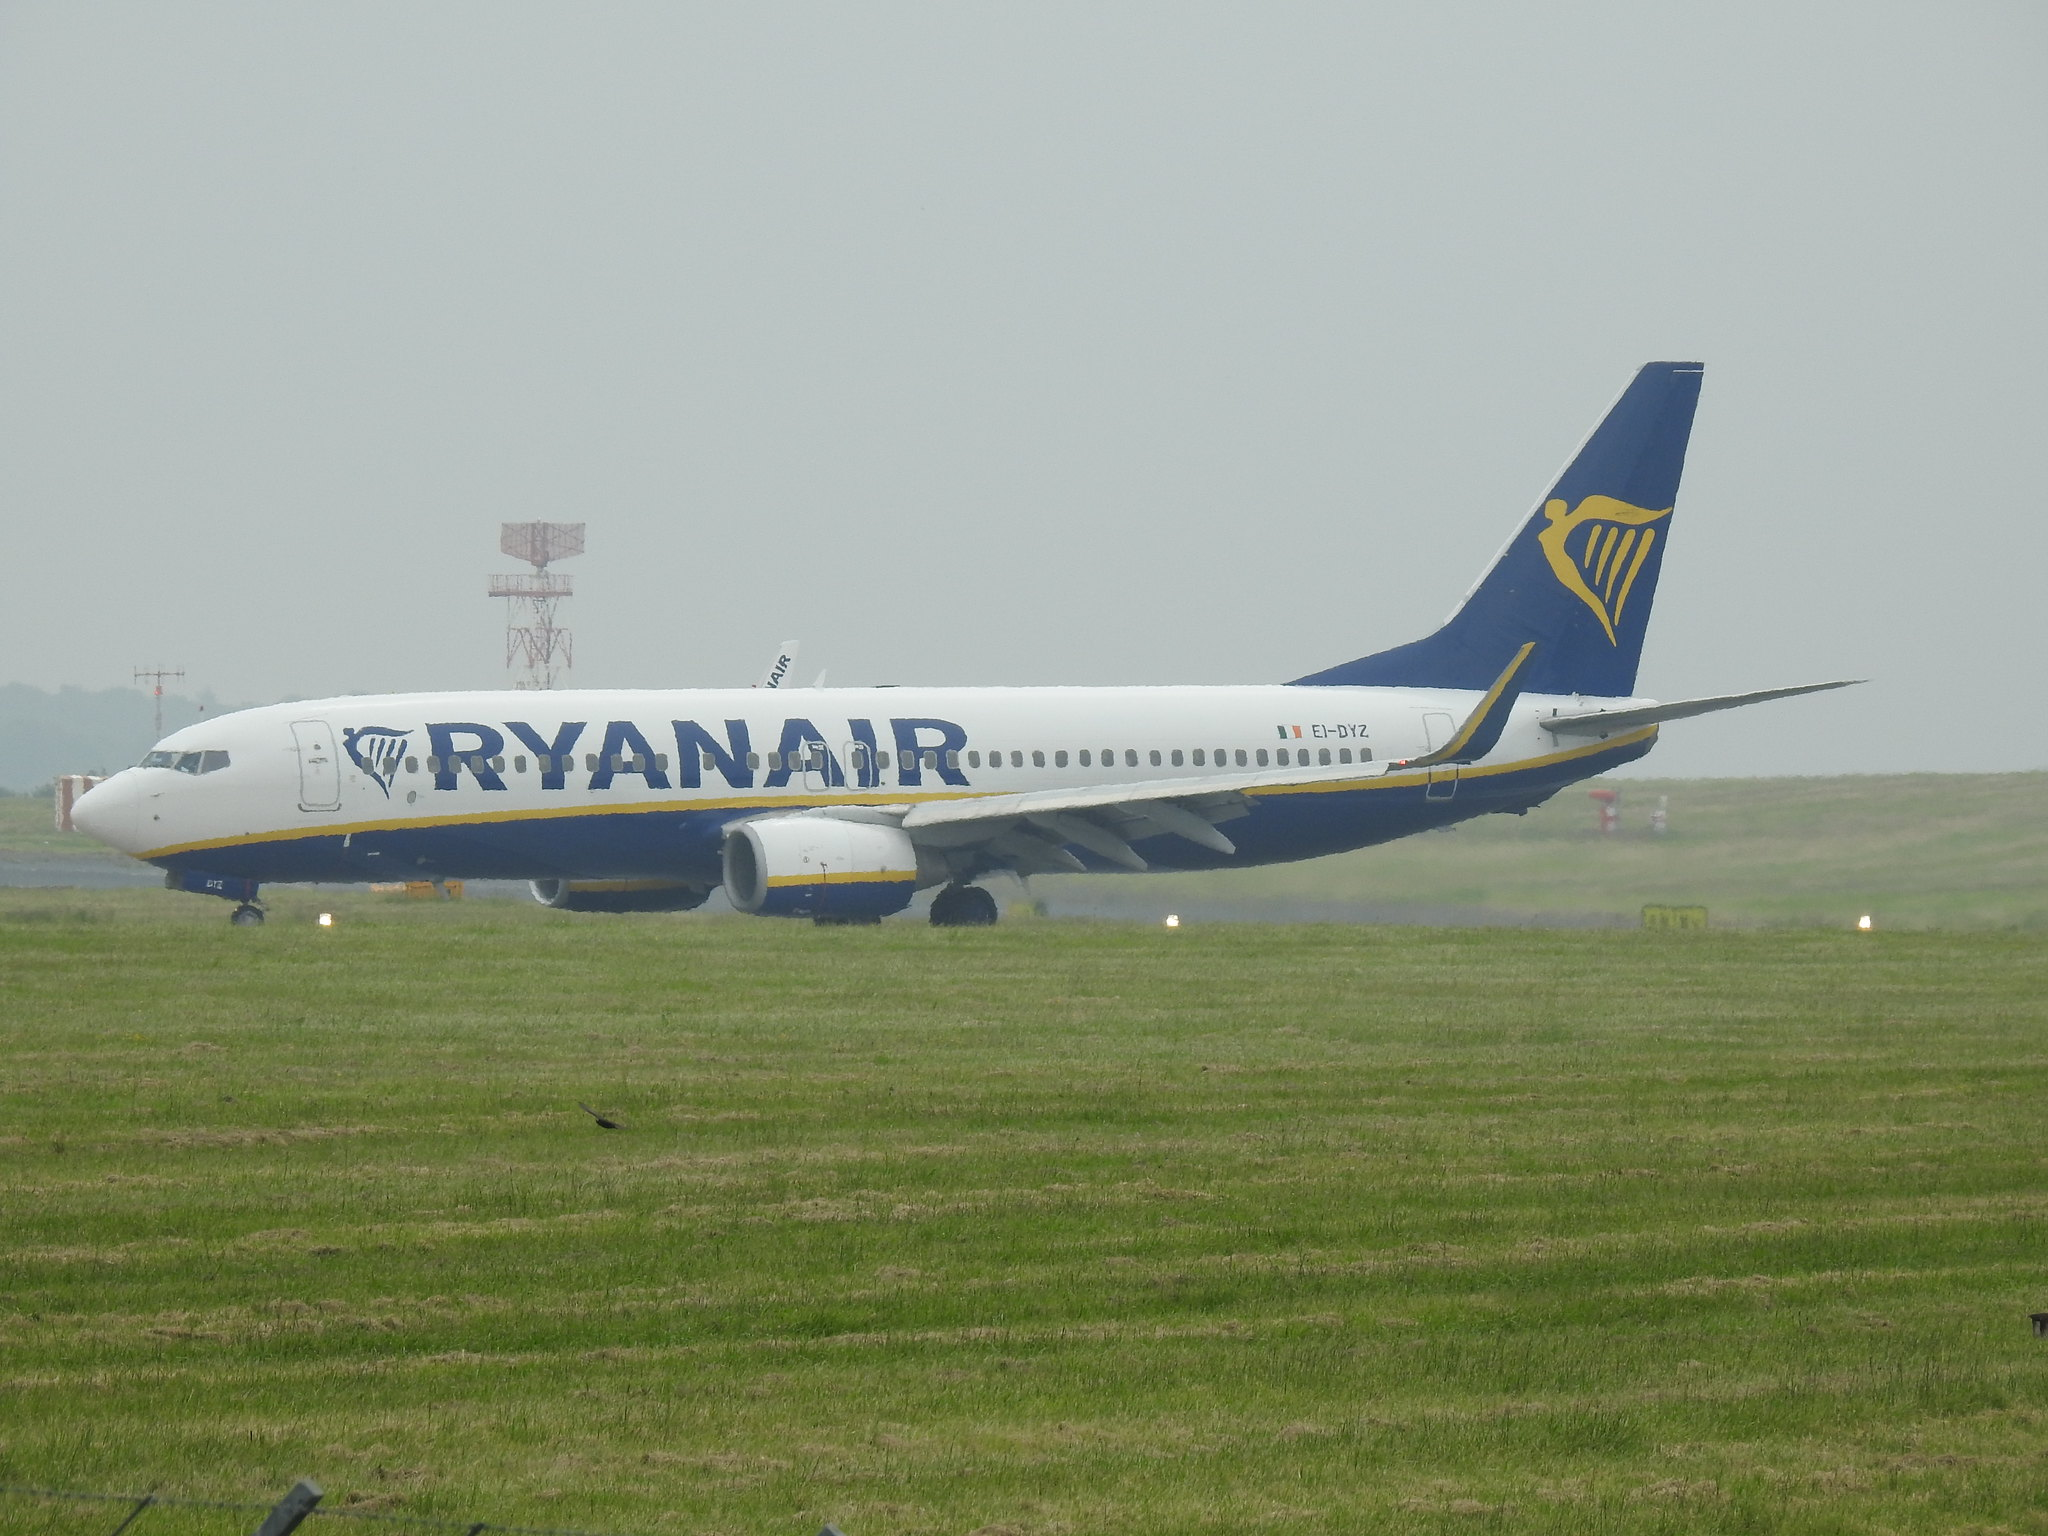aeroplane: (60, 352, 1875, 920)
